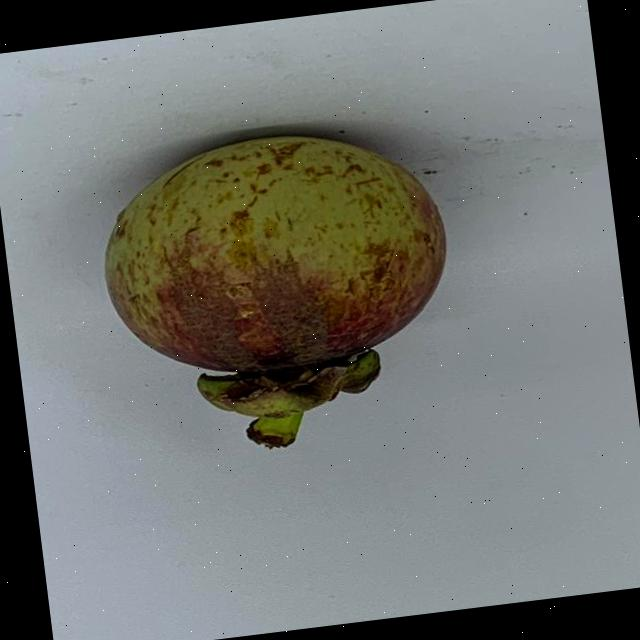mangosteen: (87, 114, 486, 473)
